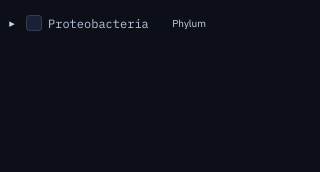
Test: TaxonomyTree — expand/collapse › clicking the chevron fetches and renders children
Expected: the text "Proteobacteria" is shown, x1=48 y1=16 x2=149 y2=30
Click the button titled "Expand".
click(12, 23)  # box x1=4 y1=15 x2=20 y2=31
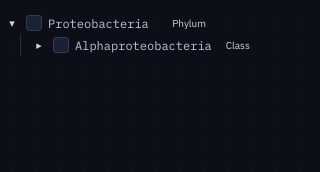
Expected: the text "Alphaproteobacteria" is shown, x1=75 y1=38 x2=212 y2=52
